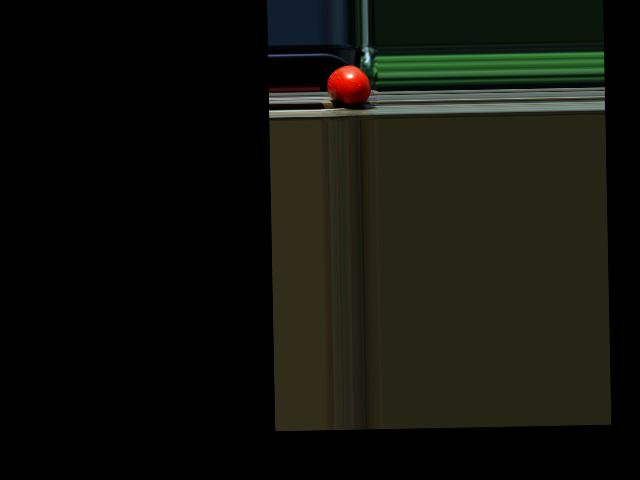tomato: (326, 64, 371, 105)
